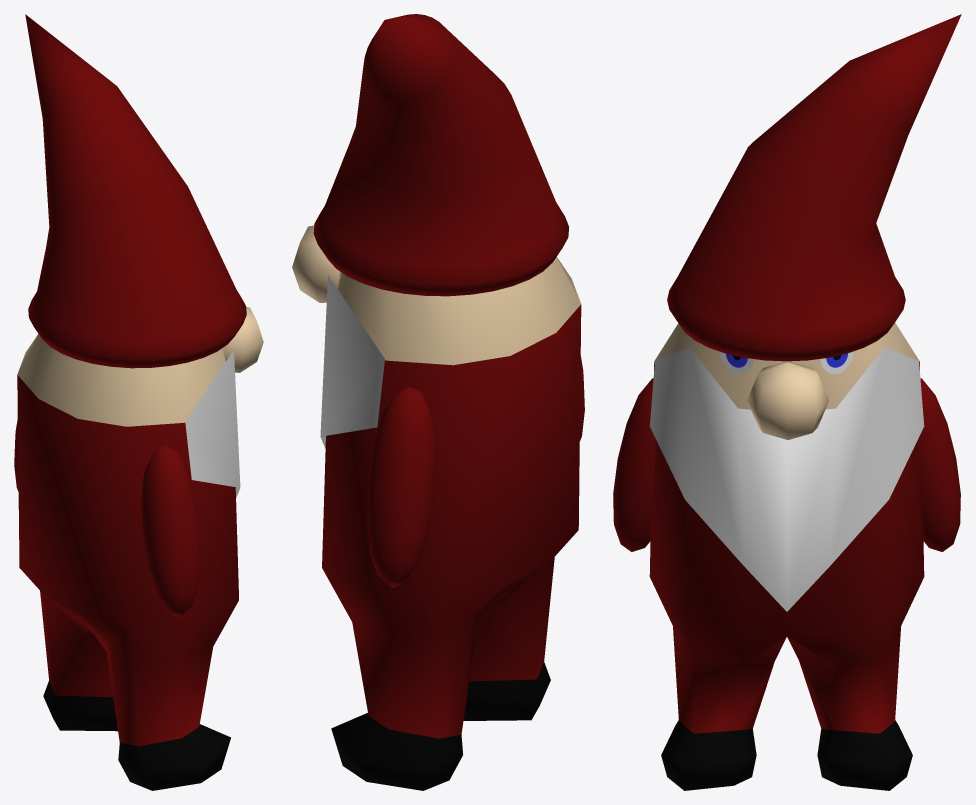
Rendered from RodNiseBein.gltf.
3 views of the same model, side by side, from view 1: azimuth 30°, elevation 25°; view 2: azimuth 150°, elevation 25°; view 3: azimuth 270°, elevation 25° (orthographic). The views are drawn at different scales.
Visible parts, largest first — view 1: Cube.025; view 2: Cube.025; view 3: Cube.025.
Part boxes in pixels (x1=…): Cube.025: x1=14, y1=14, x2=263, y2=790; Cube.025: x1=292, y1=14, x2=584, y2=790; Cube.025: x1=613, y1=14, x2=961, y2=790.
Bounding box in the file's own units: 5.68 × 16.73 × 7.12.
